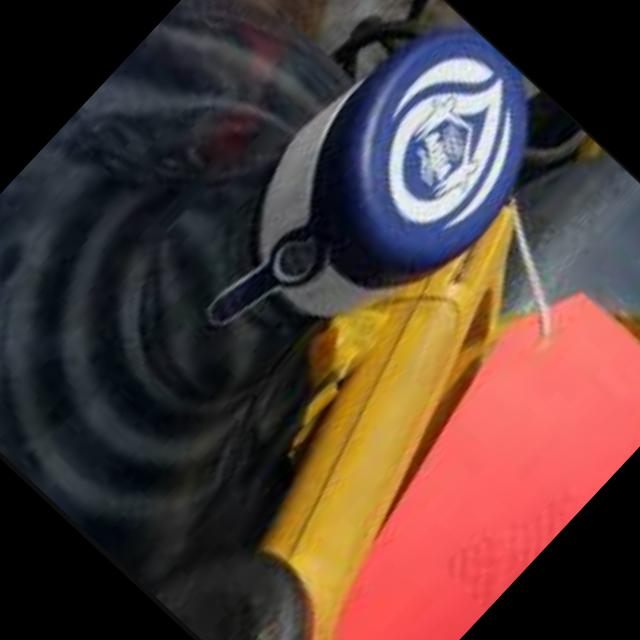TutupGalon: (162, 0, 578, 421)
